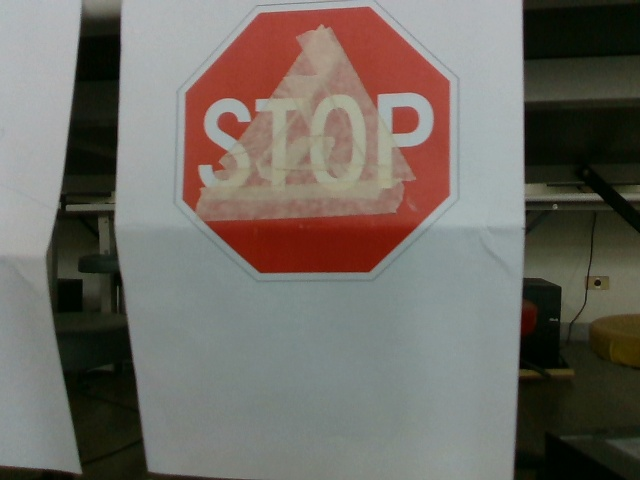stop: (173, 3, 458, 281)
